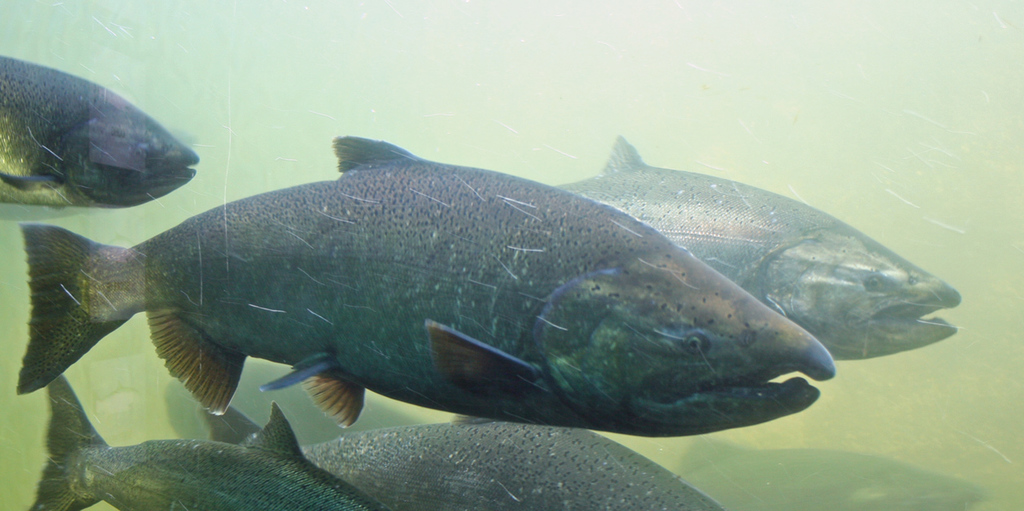Chinook salmon: (16, 133, 847, 439), (550, 115, 965, 366), (190, 396, 731, 510), (28, 362, 382, 511), (2, 45, 203, 215)
